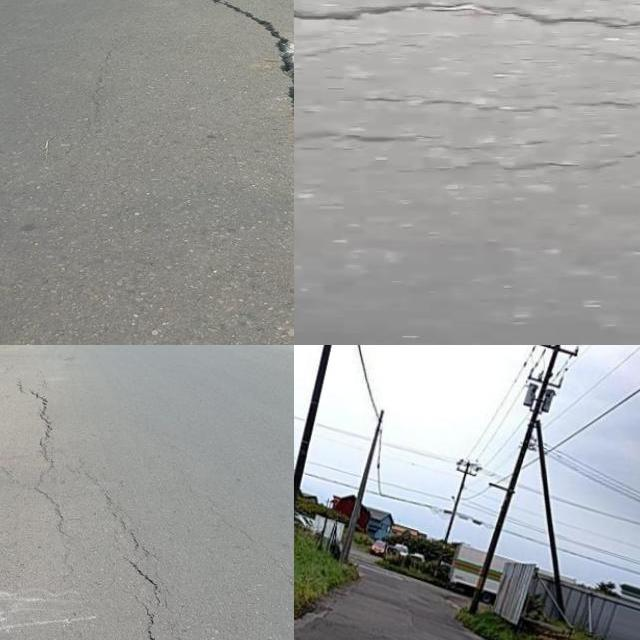Melintang: (294, 0, 640, 48)
Memanjang: (195, 0, 294, 136), (1, 365, 74, 533), (111, 484, 179, 640)
